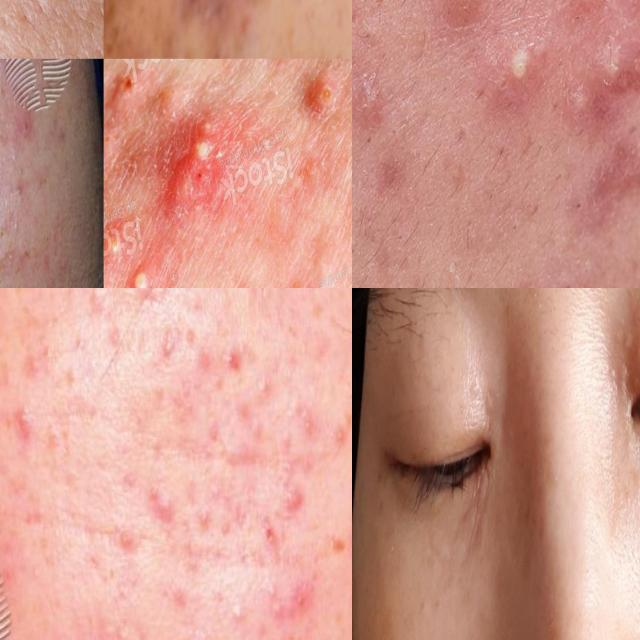acne_scars: (164, 0, 210, 23)
comedone: (555, 180, 589, 234), (157, 324, 185, 388), (17, 0, 65, 31), (224, 588, 250, 639), (352, 9, 379, 57), (103, 610, 143, 640), (2, 163, 30, 204), (3, 208, 27, 245), (177, 626, 211, 640)
crystanlline: (585, 48, 640, 102)
cystic: (294, 59, 338, 142), (104, 62, 120, 183)
milium: (81, 0, 103, 21), (631, 367, 640, 395)
papule: (6, 391, 42, 460), (174, 24, 239, 59), (112, 18, 162, 59), (275, 481, 313, 519), (155, 481, 175, 544)
pustule: (104, 199, 142, 278), (498, 29, 538, 103), (554, 0, 613, 42), (116, 246, 163, 288)
sebo-crystan-conglo: (150, 91, 237, 230), (110, 59, 153, 117)
syringoma: (466, 354, 508, 439), (612, 312, 640, 359)
